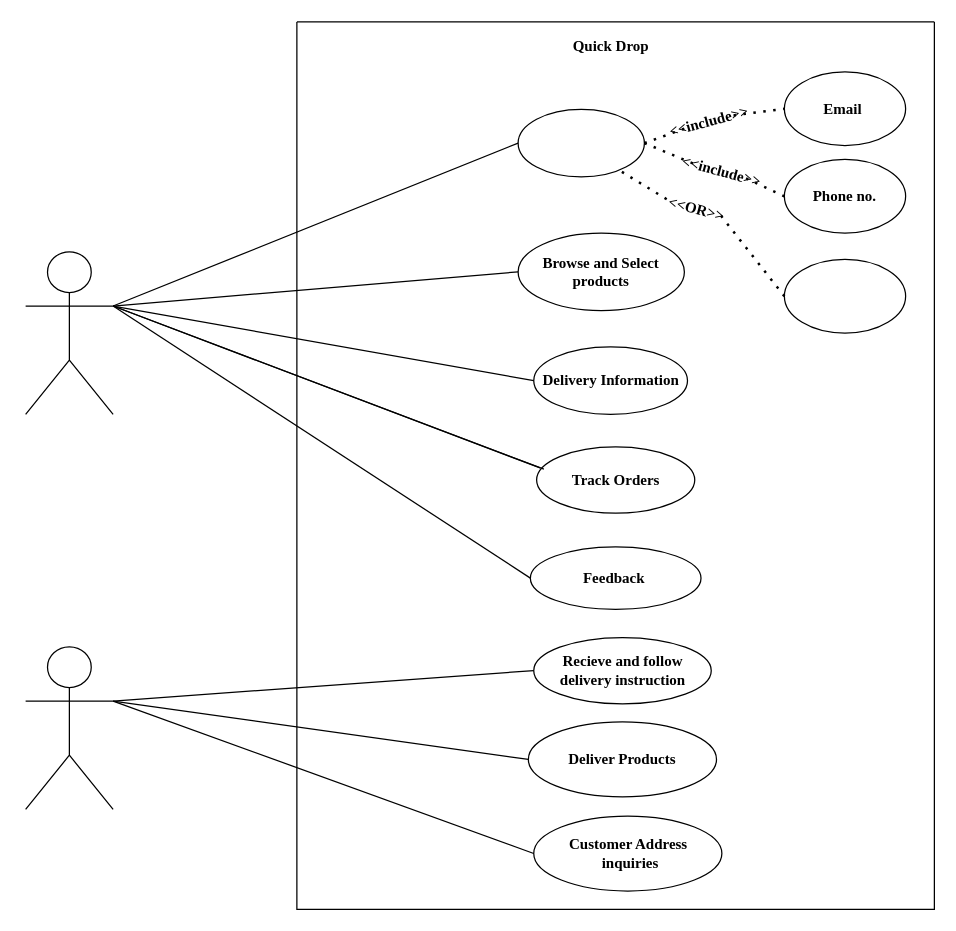
Image size: 956x931. Some labels were removed from this diagram. The centre of each missing label's shape, as x and y in pixels:
"Create Account" goes at pixel 580 142.
"Delivery Staffs" goes at pixel 68 727.
"Social Media" goes at pixel 844 295.
"User" goes at pixel 68 332.
